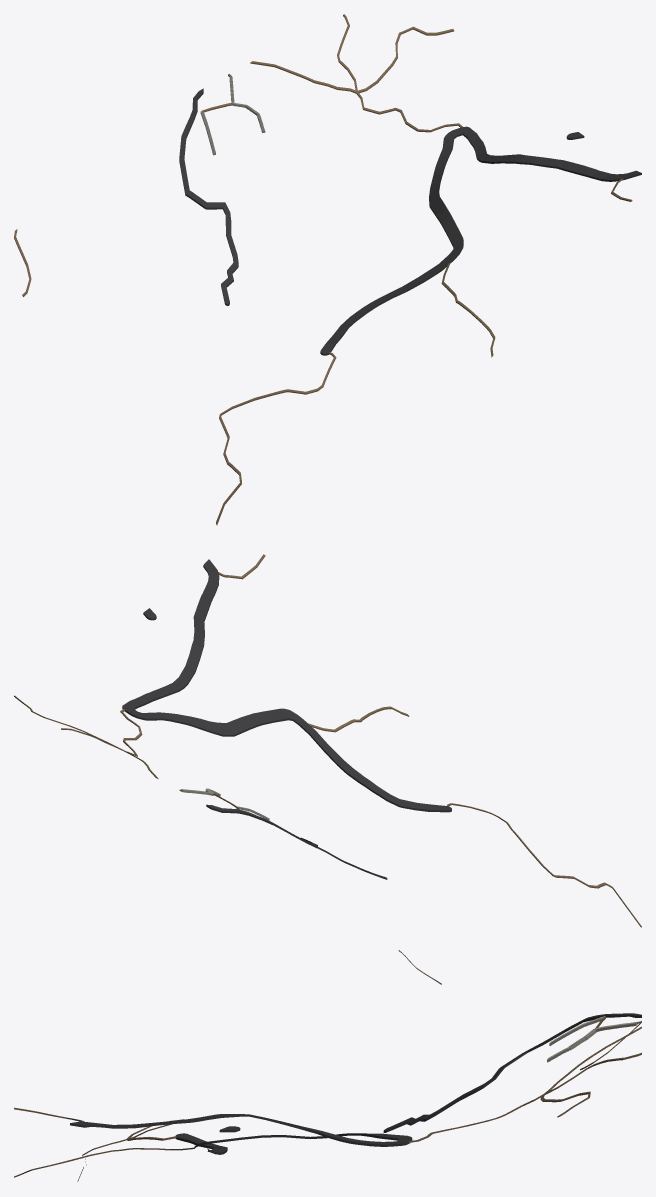
Rendered from 17-109432-59491.dad1325e.glb.
3 renders of one model, top to bottom at view 1: azimuth 30°, elevation 25°; view 2: azimuth 150°, elevation 25°; view 3: azimuth 270°, elevation 25°, orthographic. The views are drawn at different scales.
Bounding box in the file's own units: 293 × 178 × 292.
